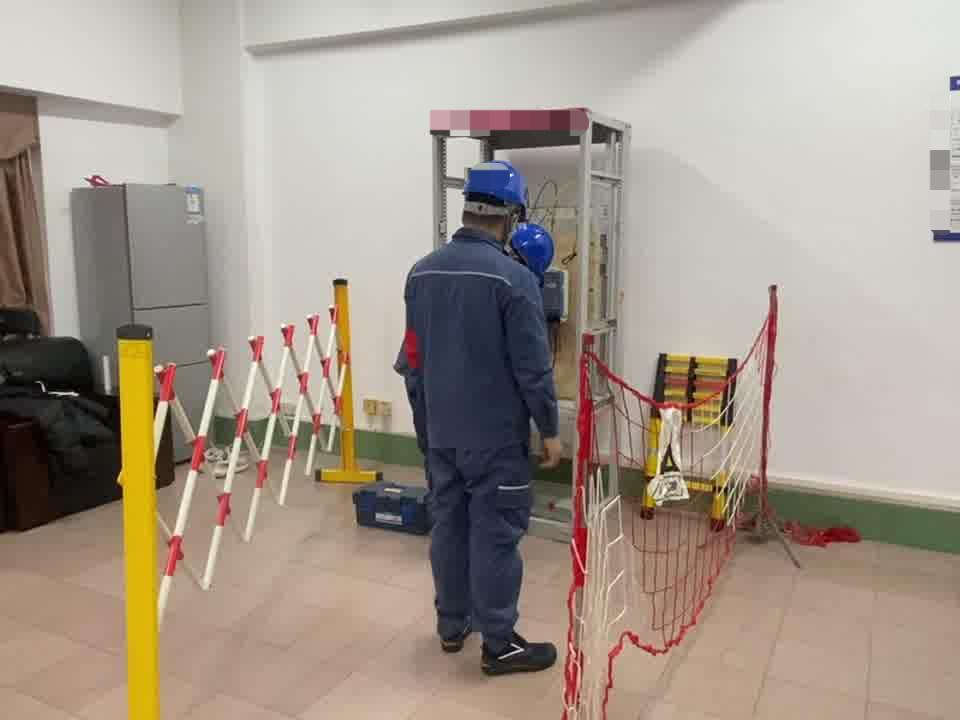halt: (462, 160, 531, 232), (512, 226, 558, 276)
